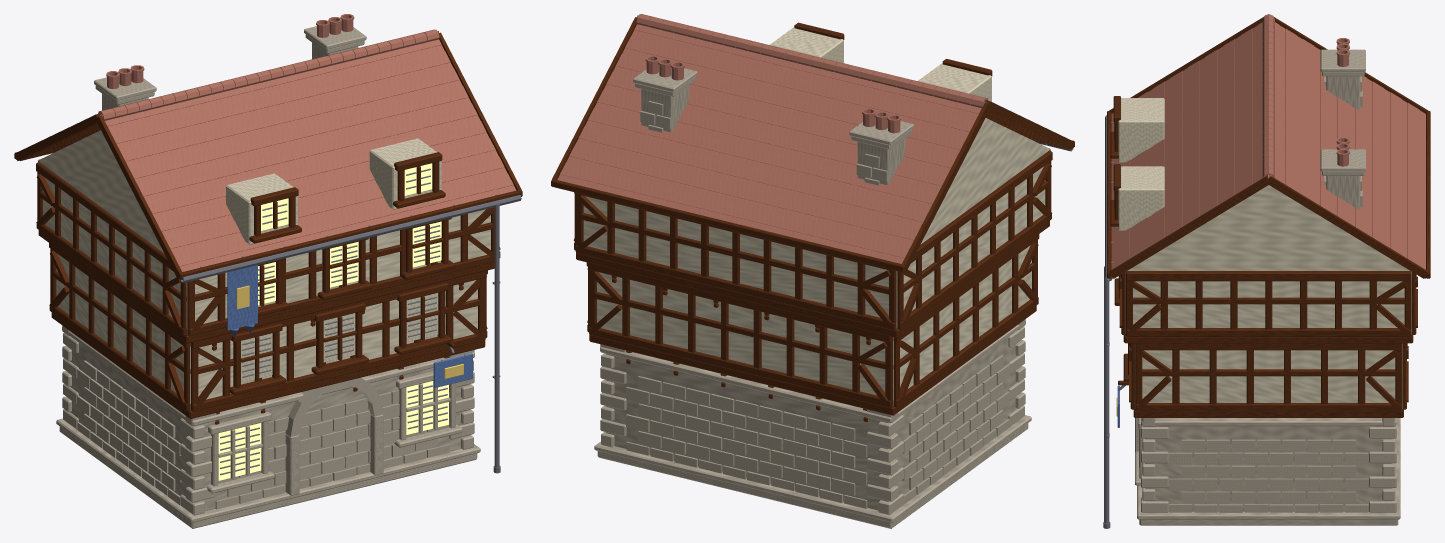
File: fantasy-mmo-city-and-townsfolk-travellers-inn-881bdfb8__32740.glb
3 renders of one model, left to right at view 1: azimuth 30°, elevation 25°; view 2: azimuth 150°, elevation 25°; view 3: azimuth 270°, elevation 25°, orthographic. The views are drawn at different scales.
Visible parts, largest first — view 1: travellers-inn, banner/blue, sign/blue; view 2: travellers-inn; view 3: travellers-inn.
Boxes of the visible parts, x1,y1,x2,y2 form: travellers-inn: [14, 14, 522, 528]; banner/blue: [227, 265, 257, 336]; sign/blue: [433, 353, 472, 387]; travellers-inn: [551, 14, 1074, 528]; travellers-inn: [1103, 14, 1430, 528].
Bounding box in the file's own units: 12.4 × 13 × 10.57.
8 materials, 5 textured.
